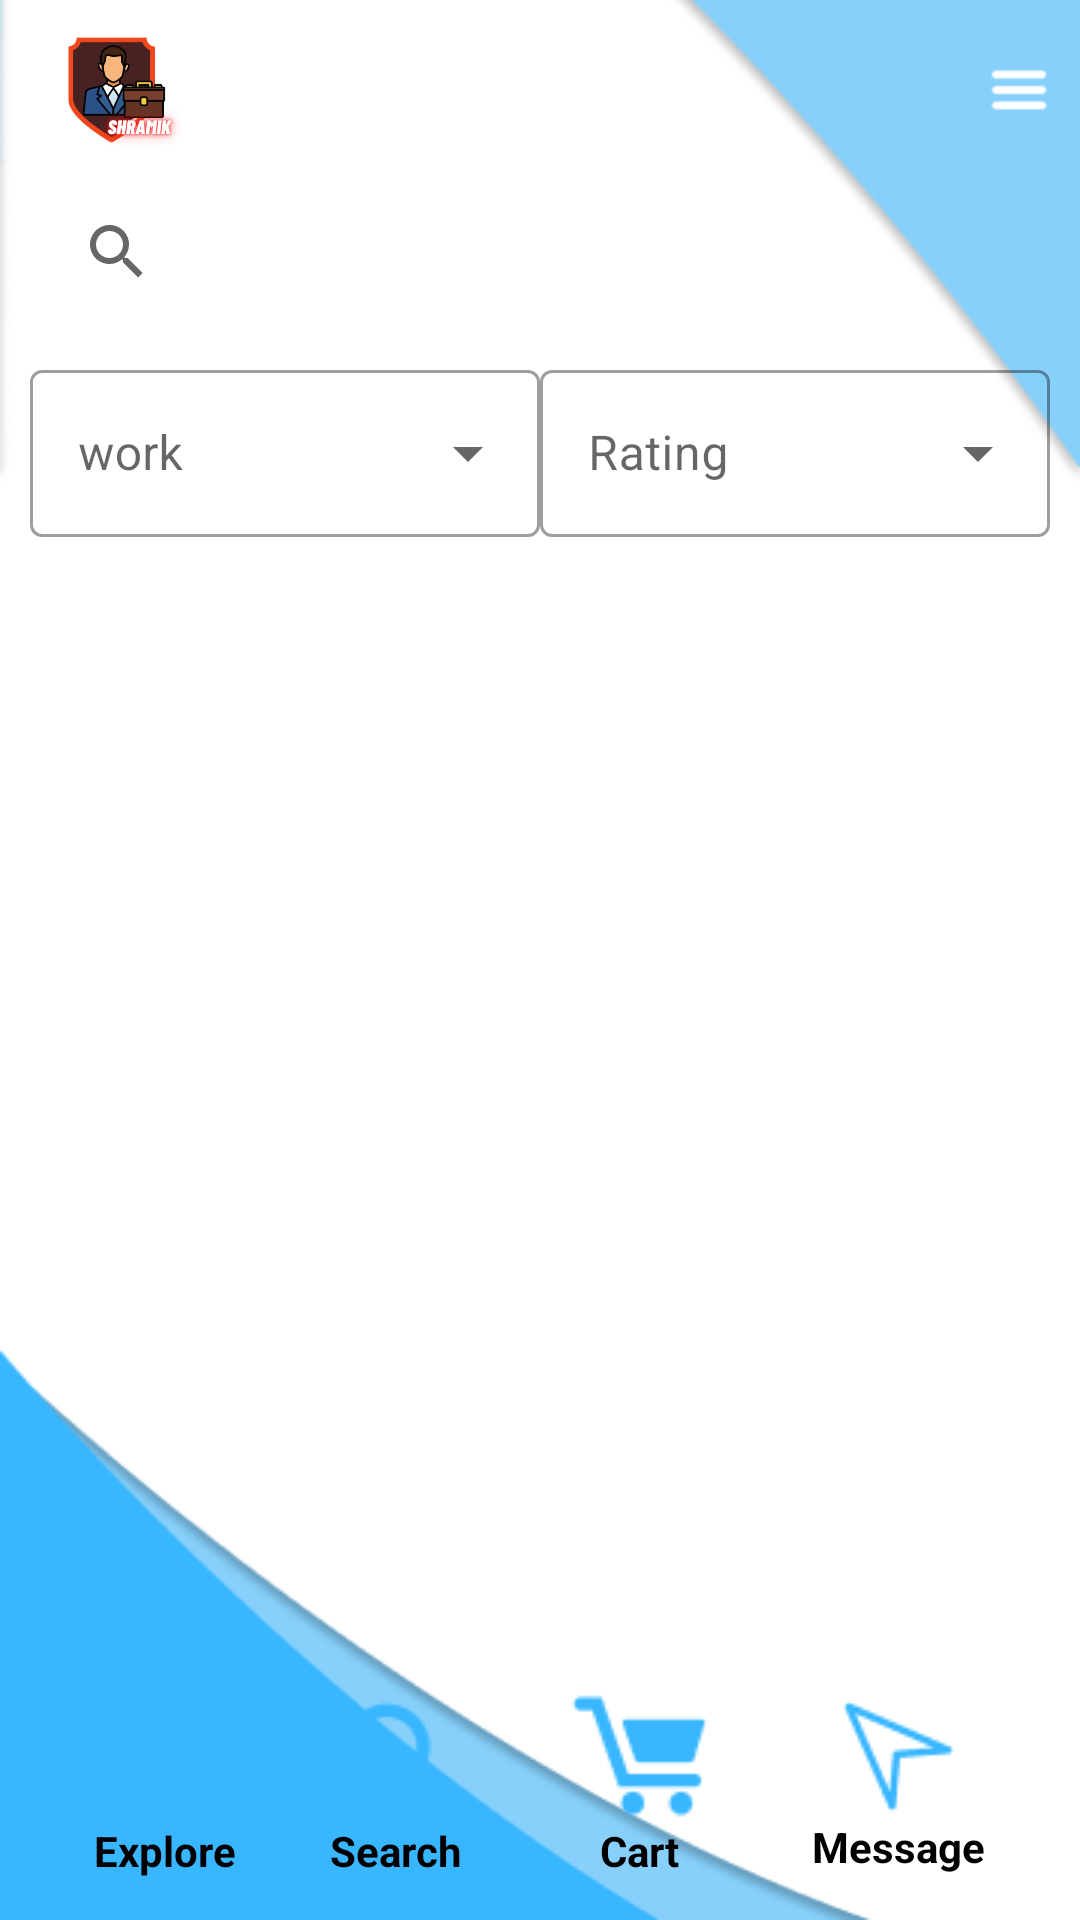

Icon bounding boxes for this 1080px x 1920px phone screenshot, format Rect(x1, y1, x2, y2):
menu: Rect(991, 70, 1047, 110)
